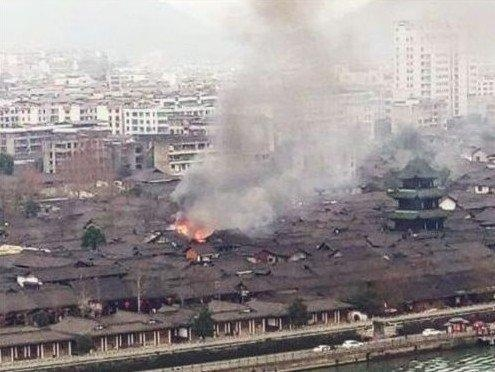fire: (174, 220, 211, 241)
